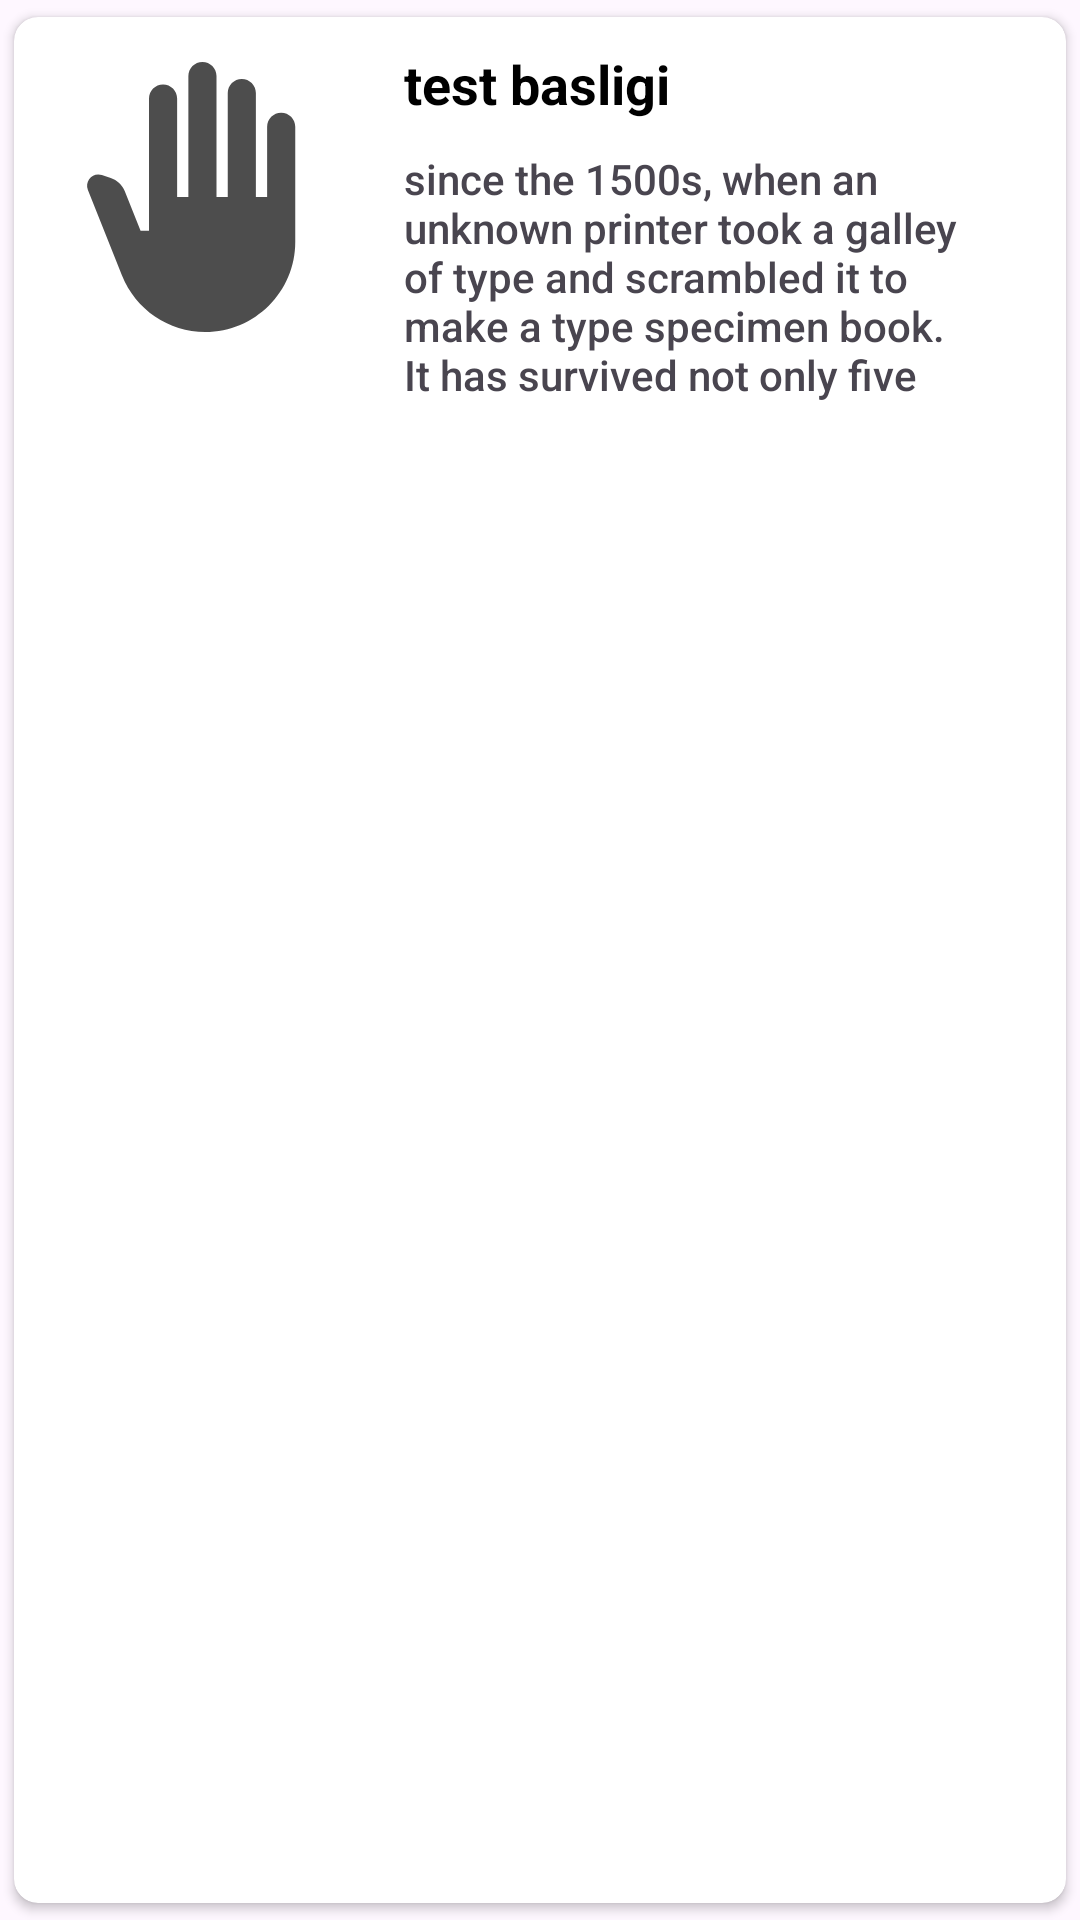

Screen size 1080*1920. Icon name, then its box in pixels as {"x1": x1, "y1": y1, "x2": x2, "y2": y2}:
back hand: {"x1": 87, "y1": 62, "x2": 296, "y2": 332}
